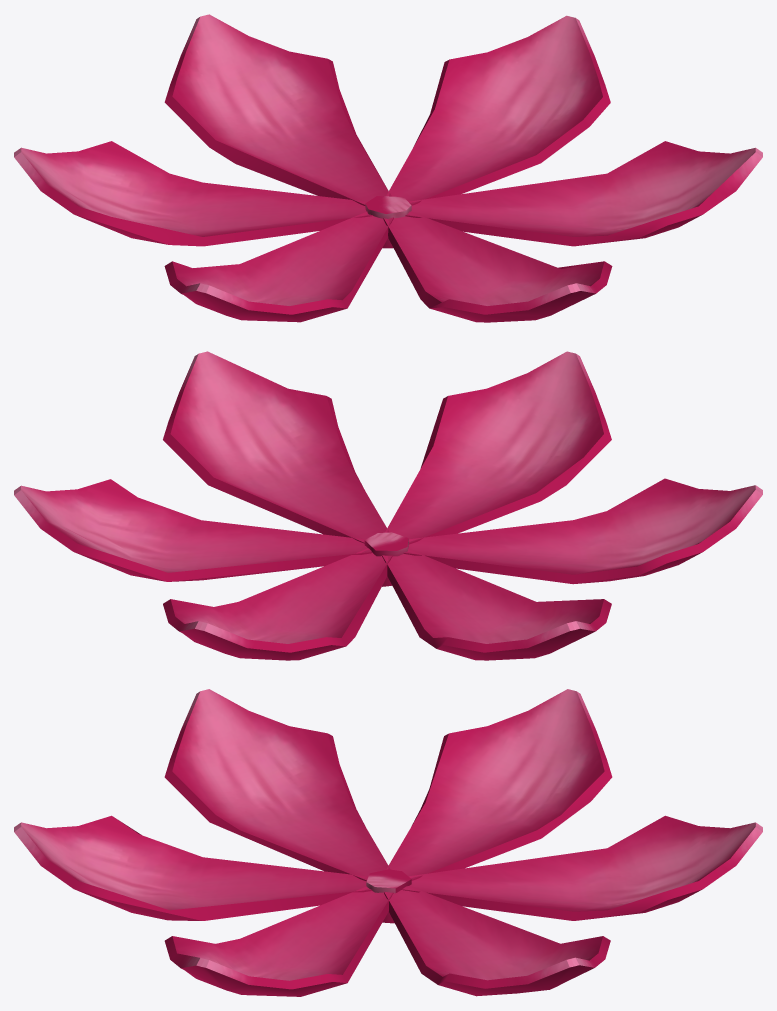
Rendered from lily-pads.lod0.glb.
3 renders of one model, top to bottom at view 1: azimuth 30°, elevation 25°; view 2: azimuth 150°, elevation 25°; view 3: azimuth 270°, elevation 25°, orthographic.
Parts seen in each view (by area): view 1: Object_2; view 2: Object_2; view 3: Object_2.
Boxes of the visible parts, x1,y1,x2,y2 form: Object_2: (14, 14, 762, 322); Object_2: (14, 351, 762, 660); Object_2: (14, 689, 762, 996).
Bounding box in the file's own units: 5.24 × 0.7925 × 6.
1 material, 1 textured.
